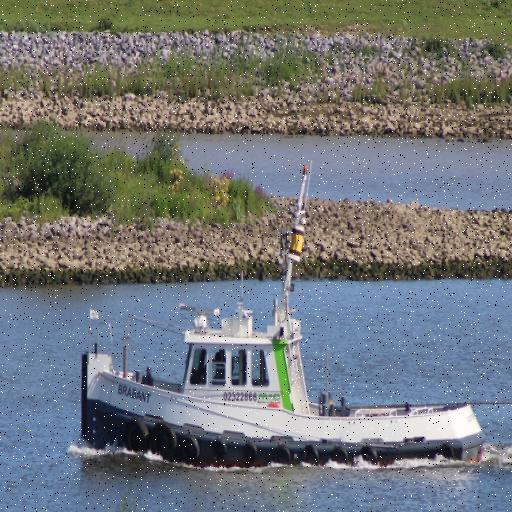tugboat: (77, 159, 488, 487)
